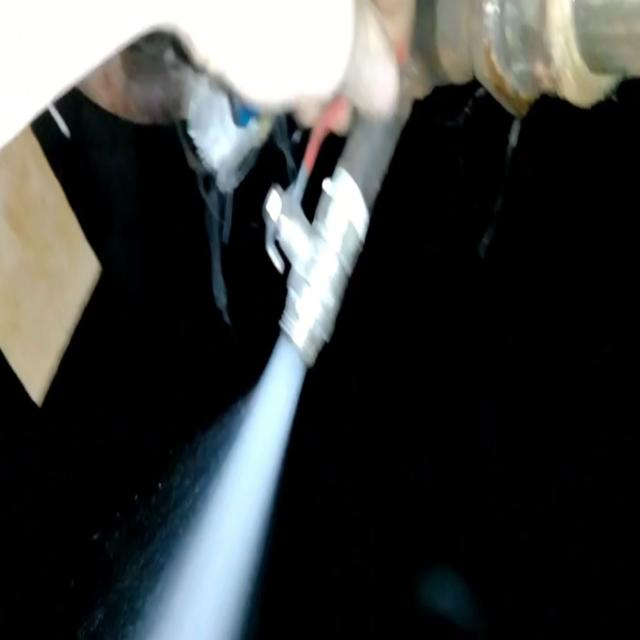leak: (144, 331, 306, 638)
